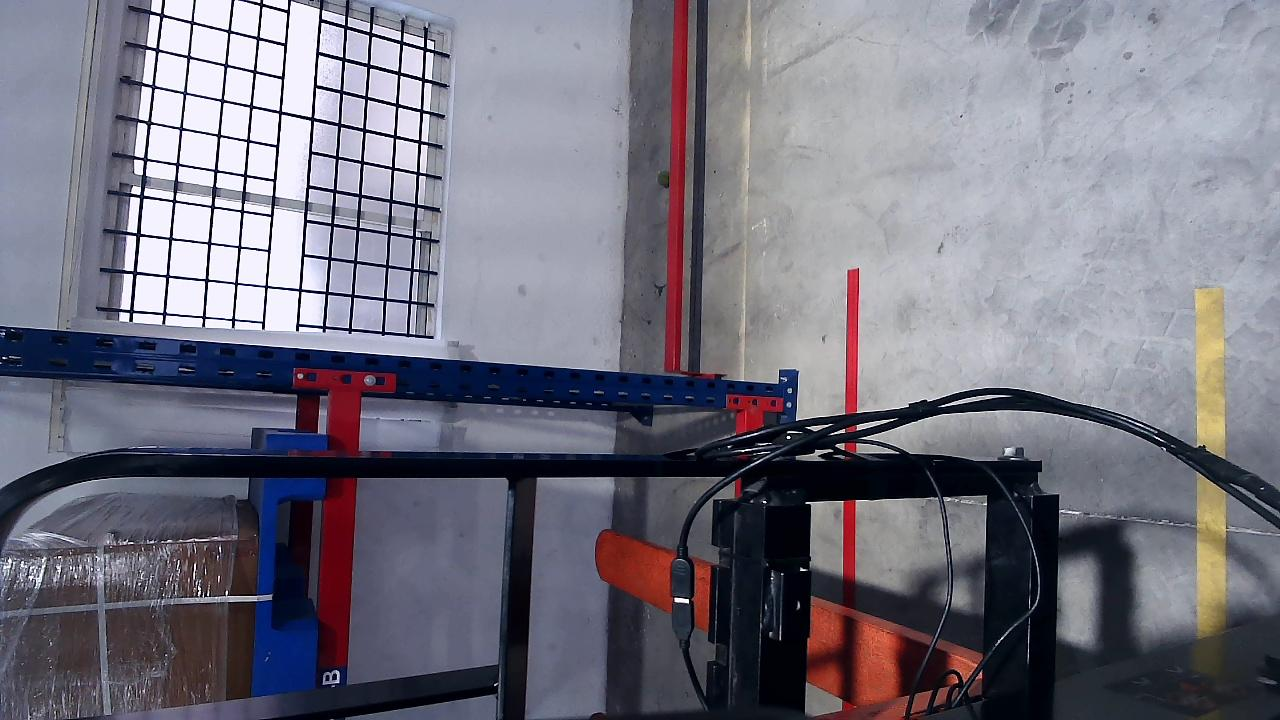h_rack: (312, 390, 359, 689)
red_line: (844, 268, 861, 412)
yellow_line: (1194, 287, 1226, 459)
